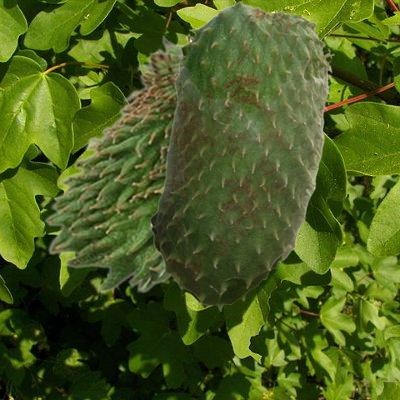guyabano: (148, 0, 333, 310), (43, 34, 186, 292)
